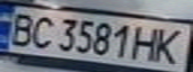1: (109, 20, 136, 60)
3: (51, 16, 78, 53)
5: (72, 17, 96, 55)
8: (90, 19, 115, 57)
B: (0, 10, 39, 47)
C: (24, 12, 57, 51)
H: (130, 23, 163, 62)
K: (151, 25, 190, 65)
